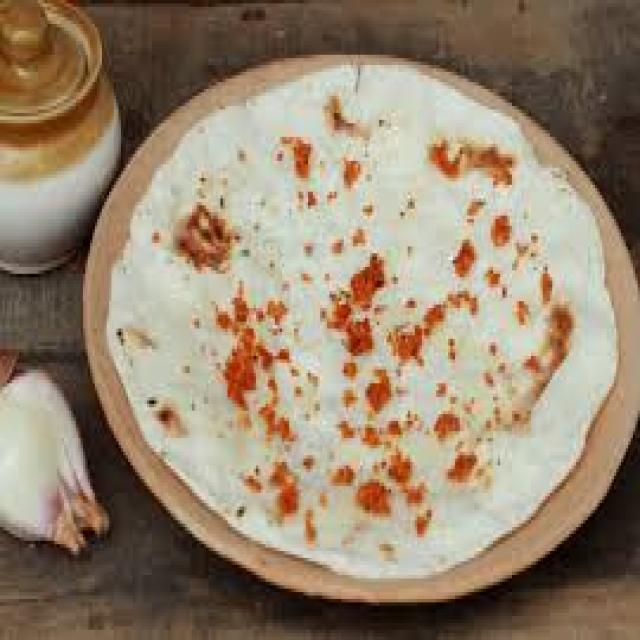RICE BHAKRI: (107, 62, 614, 579)
